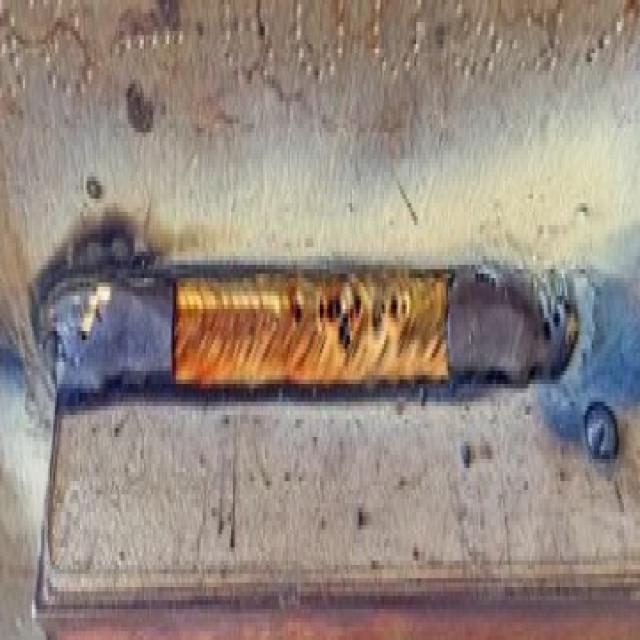Porosity: (46, 250, 590, 410)
